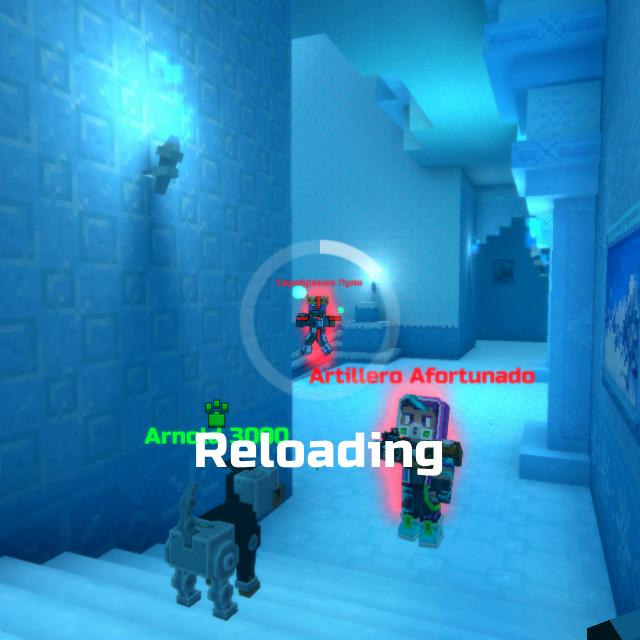Enemy: (374, 394, 464, 549), (296, 294, 336, 356)
